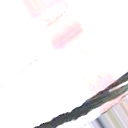crackTip: (35, 70, 128, 126)
